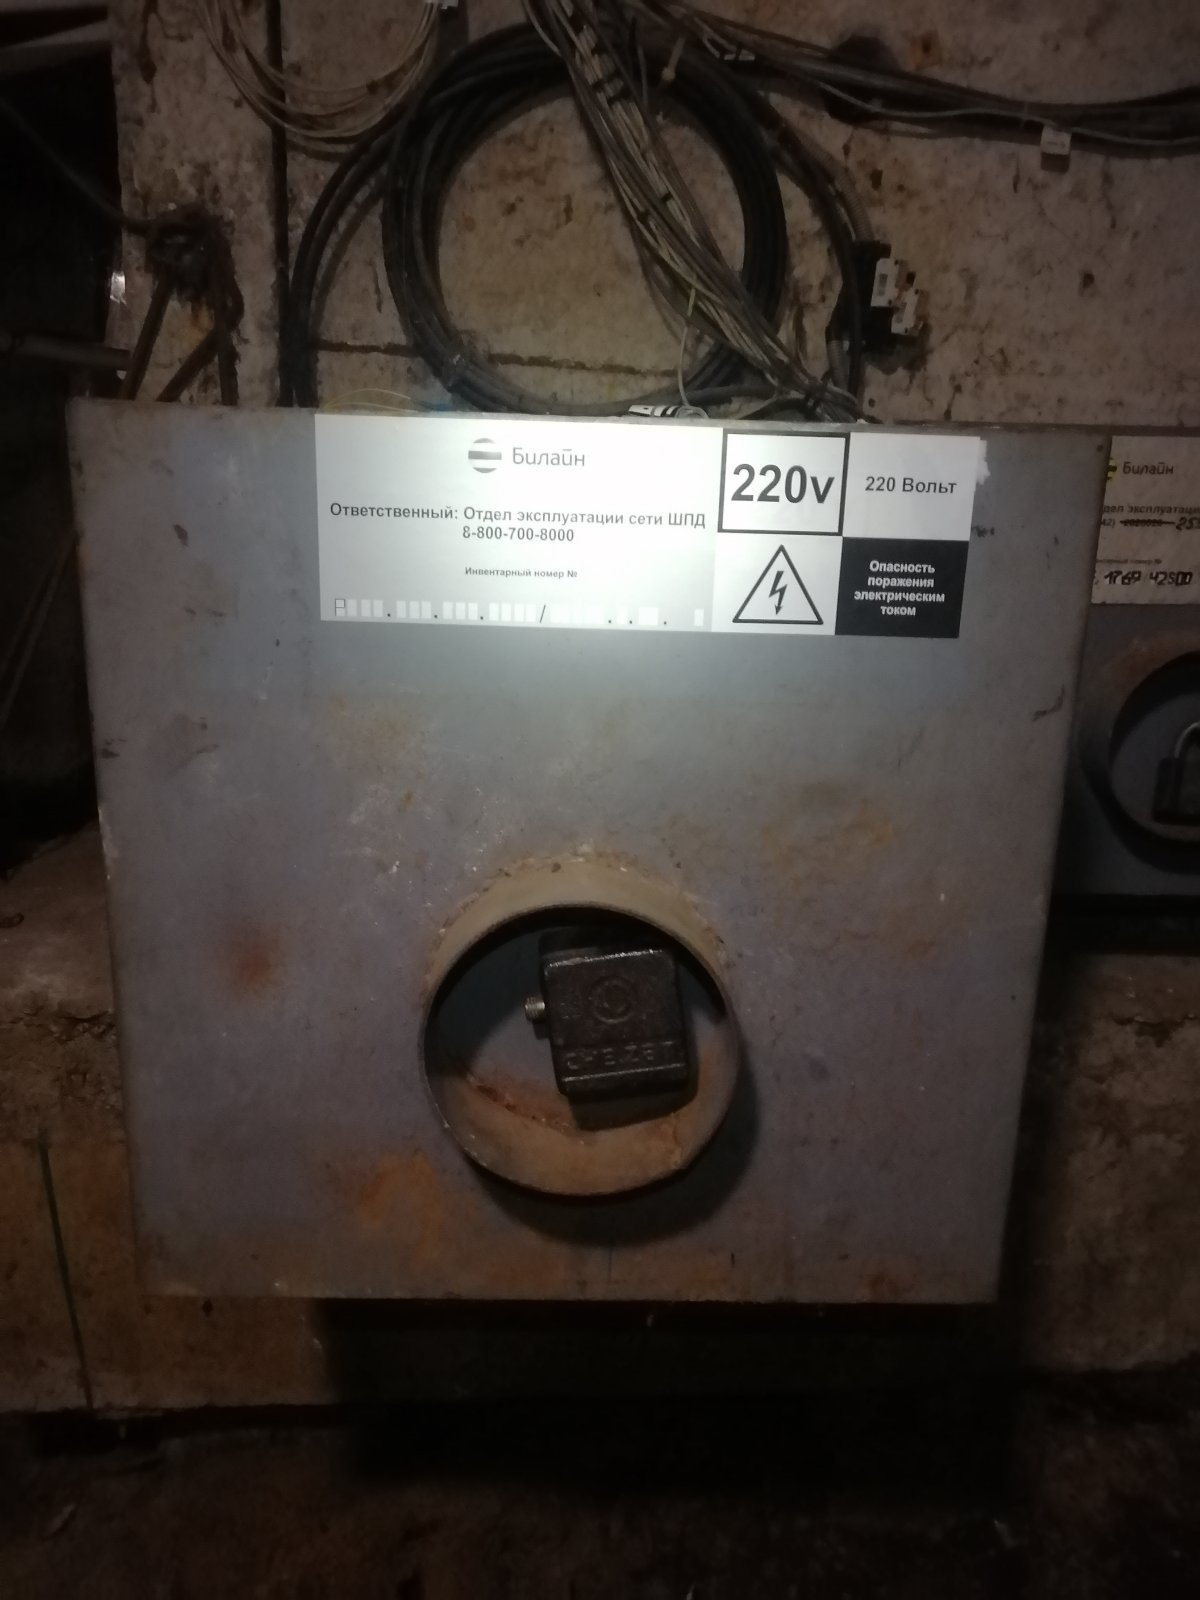shta-9: (43, 364, 1129, 1329)
